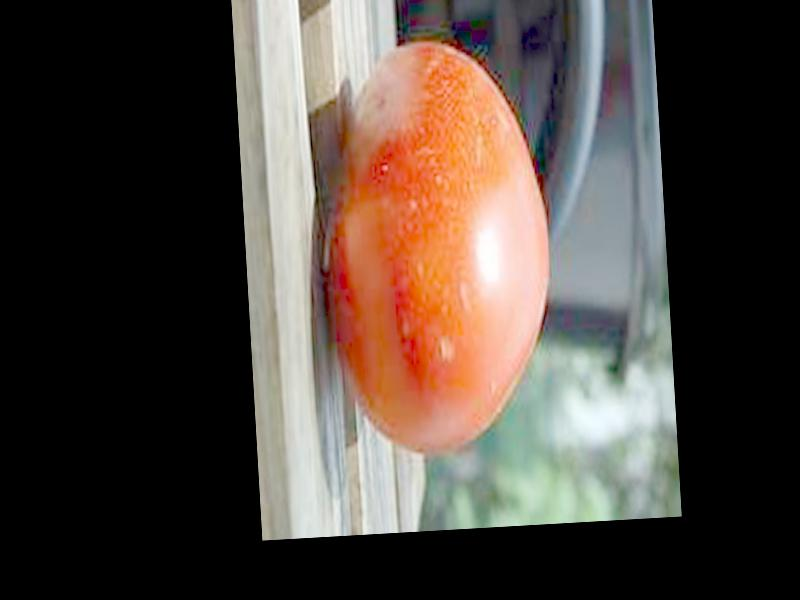Tomato: (319, 36, 561, 460)
